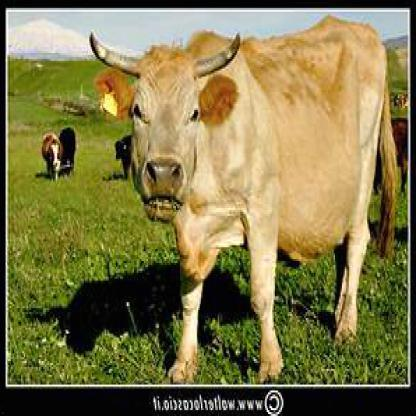cow: (90, 15, 396, 378)
